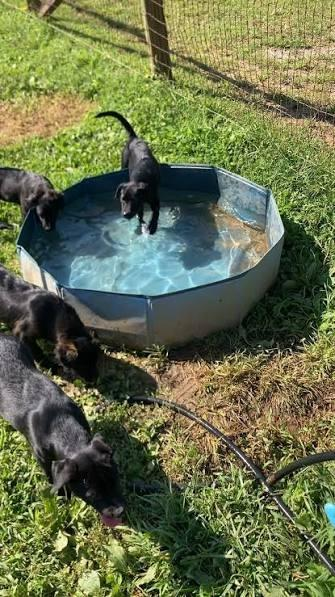adult_dog: (0, 331, 131, 527), (0, 267, 99, 385), (95, 110, 163, 236), (0, 166, 61, 231)
